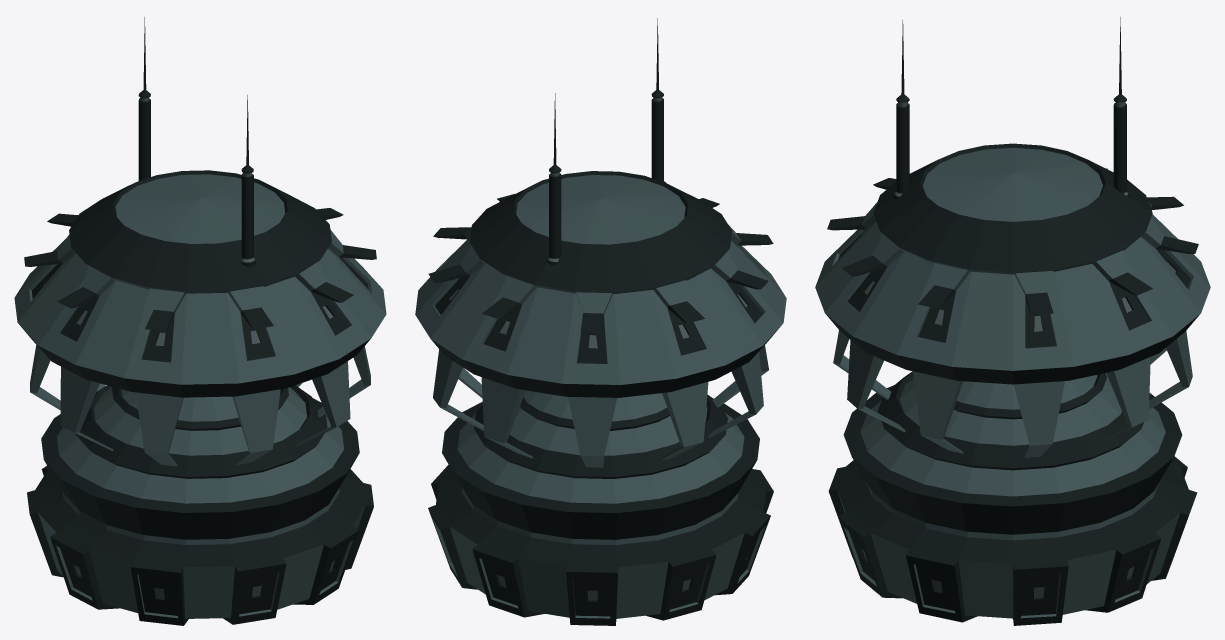
Rendered from BipbopHouse.fbx.
3 views of the same model, side by side, from view 1: azimuth 30°, elevation 25°; view 2: azimuth 150°, elevation 25°; view 3: azimuth 270°, elevation 25° (orthographic). The views are drawn at different scales.
Parts seen in each view (by area): view 1: BipbopHouse; view 2: BipbopHouse; view 3: BipbopHouse.
Part boxes in pixels (bbox=[...]): BipbopHouse: bbox=[14, 17, 386, 625]; BipbopHouse: bbox=[415, 18, 786, 625]; BipbopHouse: bbox=[815, 17, 1210, 625].
Size of the model in its own units: 13.33 by 21.75 by 13.33.
